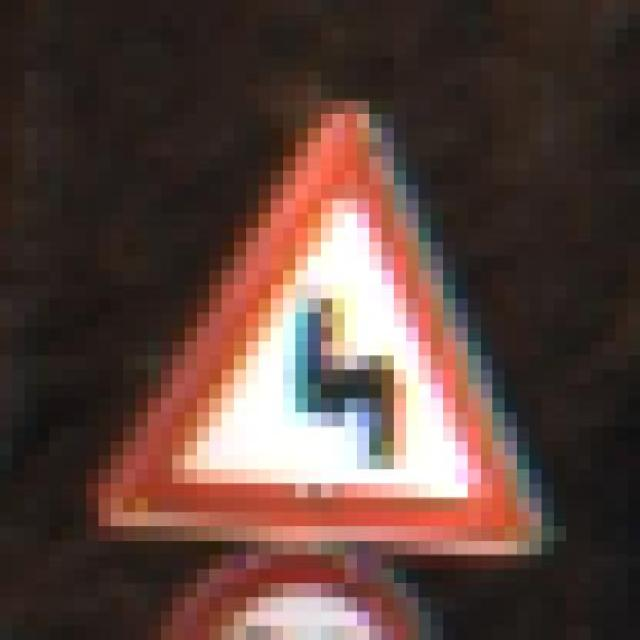Left Zig Zag Traffic: (98, 85, 554, 583)
